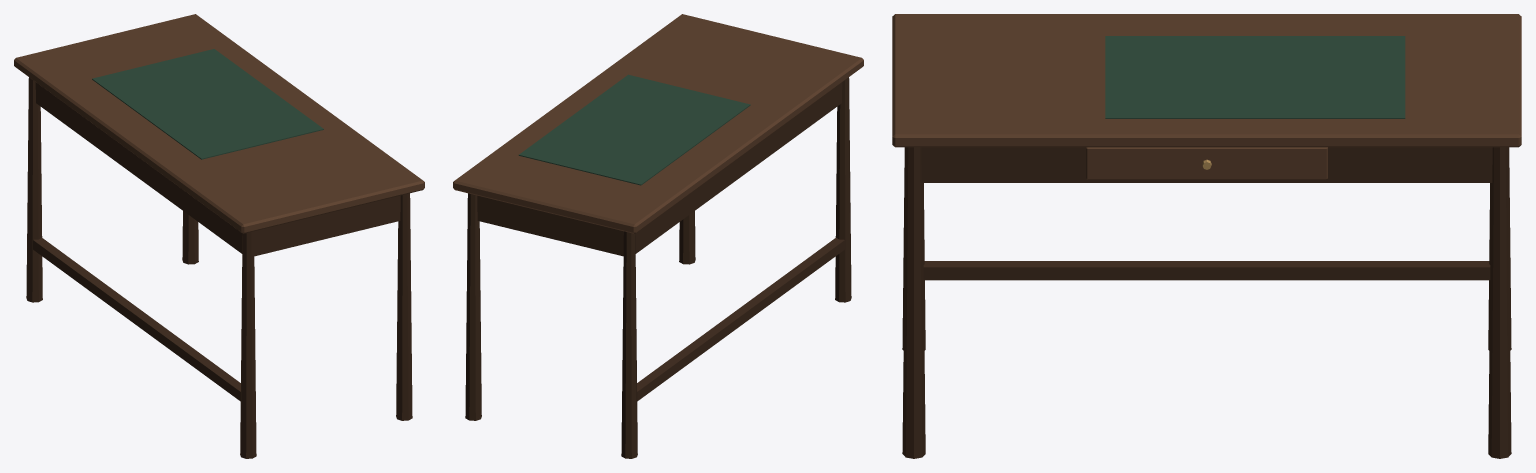
Rendered from writing_desk.glb.
3 views of the same model, side by side, from view 1: azimuth 30°, elevation 25°; view 2: azimuth 150°, elevation 25°; view 3: azimuth 270°, elevation 25° (orthographic). The views are drawn at different scales.
Parts seen in each view (by area): view 1: writing_desk; view 2: writing_desk; view 3: writing_desk.
Boxes of the visible parts, bbox=[...] form: writing_desk: bbox=[14, 14, 424, 458]; writing_desk: bbox=[453, 14, 863, 458]; writing_desk: bbox=[892, 14, 1521, 458].
Size of the model in its own units: 0.6 by 0.75 by 1.3.
